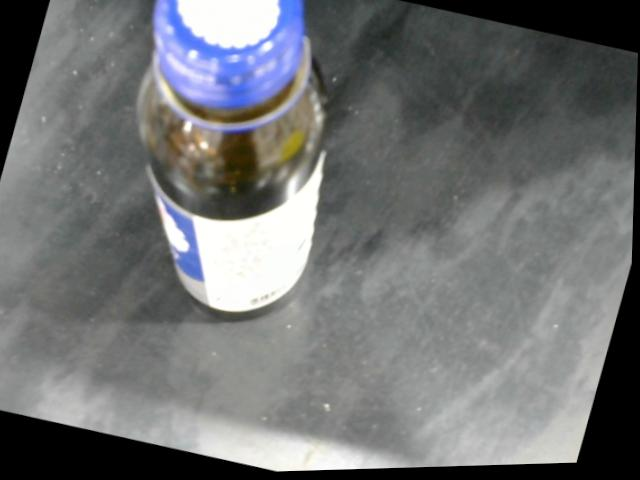glass: (129, 0, 337, 323)
